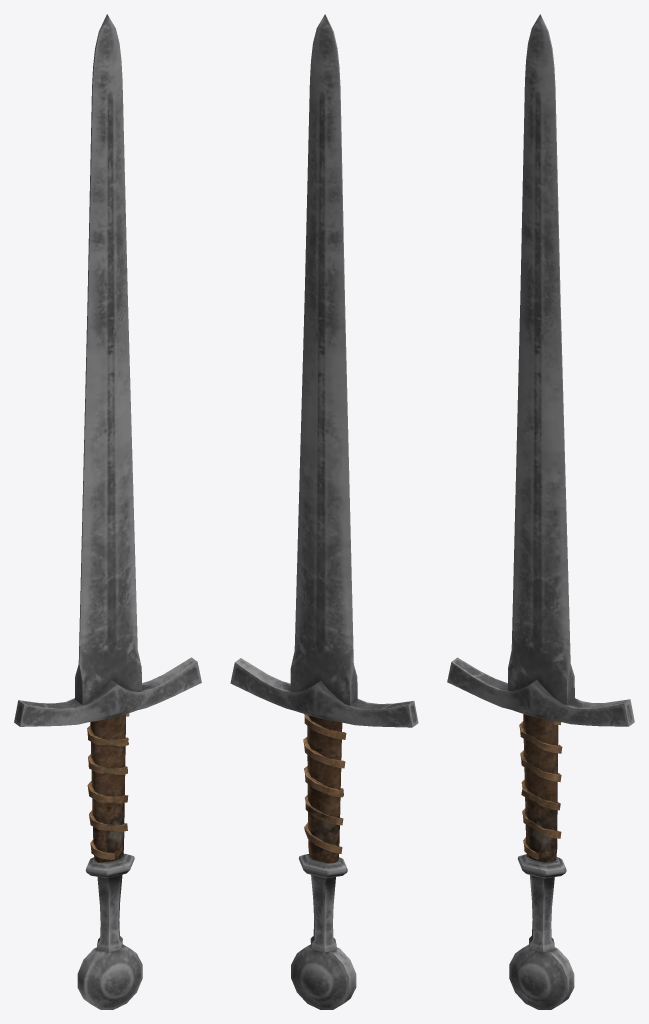
Rendered from longsword.glb.
3 views of the same model, side by side, from view 1: azimuth 30°, elevation 25°; view 2: azimuth 150°, elevation 25°; view 3: azimuth 330°, elevation 25° (orthographic).
Visible parts, largest first — view 1: longsword; view 2: longsword; view 3: longsword.
Boxes of the visible parts, x1,y1,x2,y2 form: longsword: (14,14,201,1009); longsword: (230,14,418,1009); longsword: (447,14,634,1009).
Size of the model in its own units: 0.2587 by 1.35 by 0.0476.
Materials: 1 (1 with a texture image).
